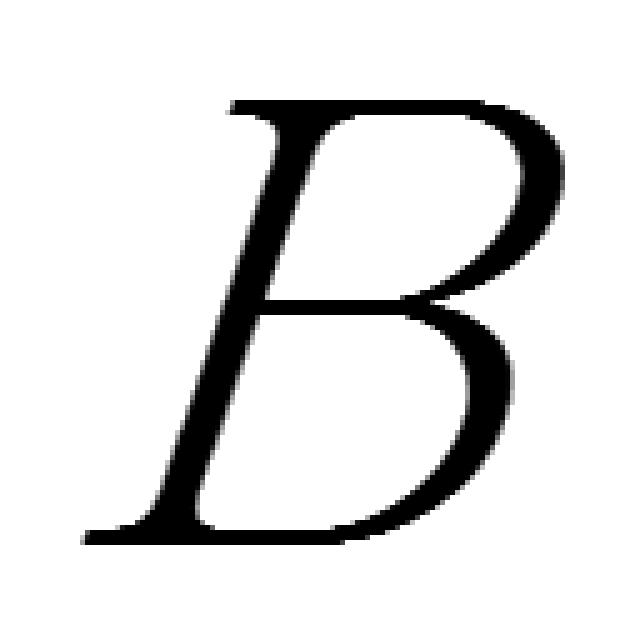B: (80, 100, 565, 550)
